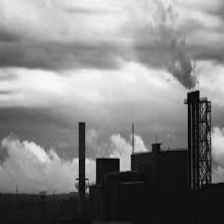smoke: (138, 25, 205, 88)
